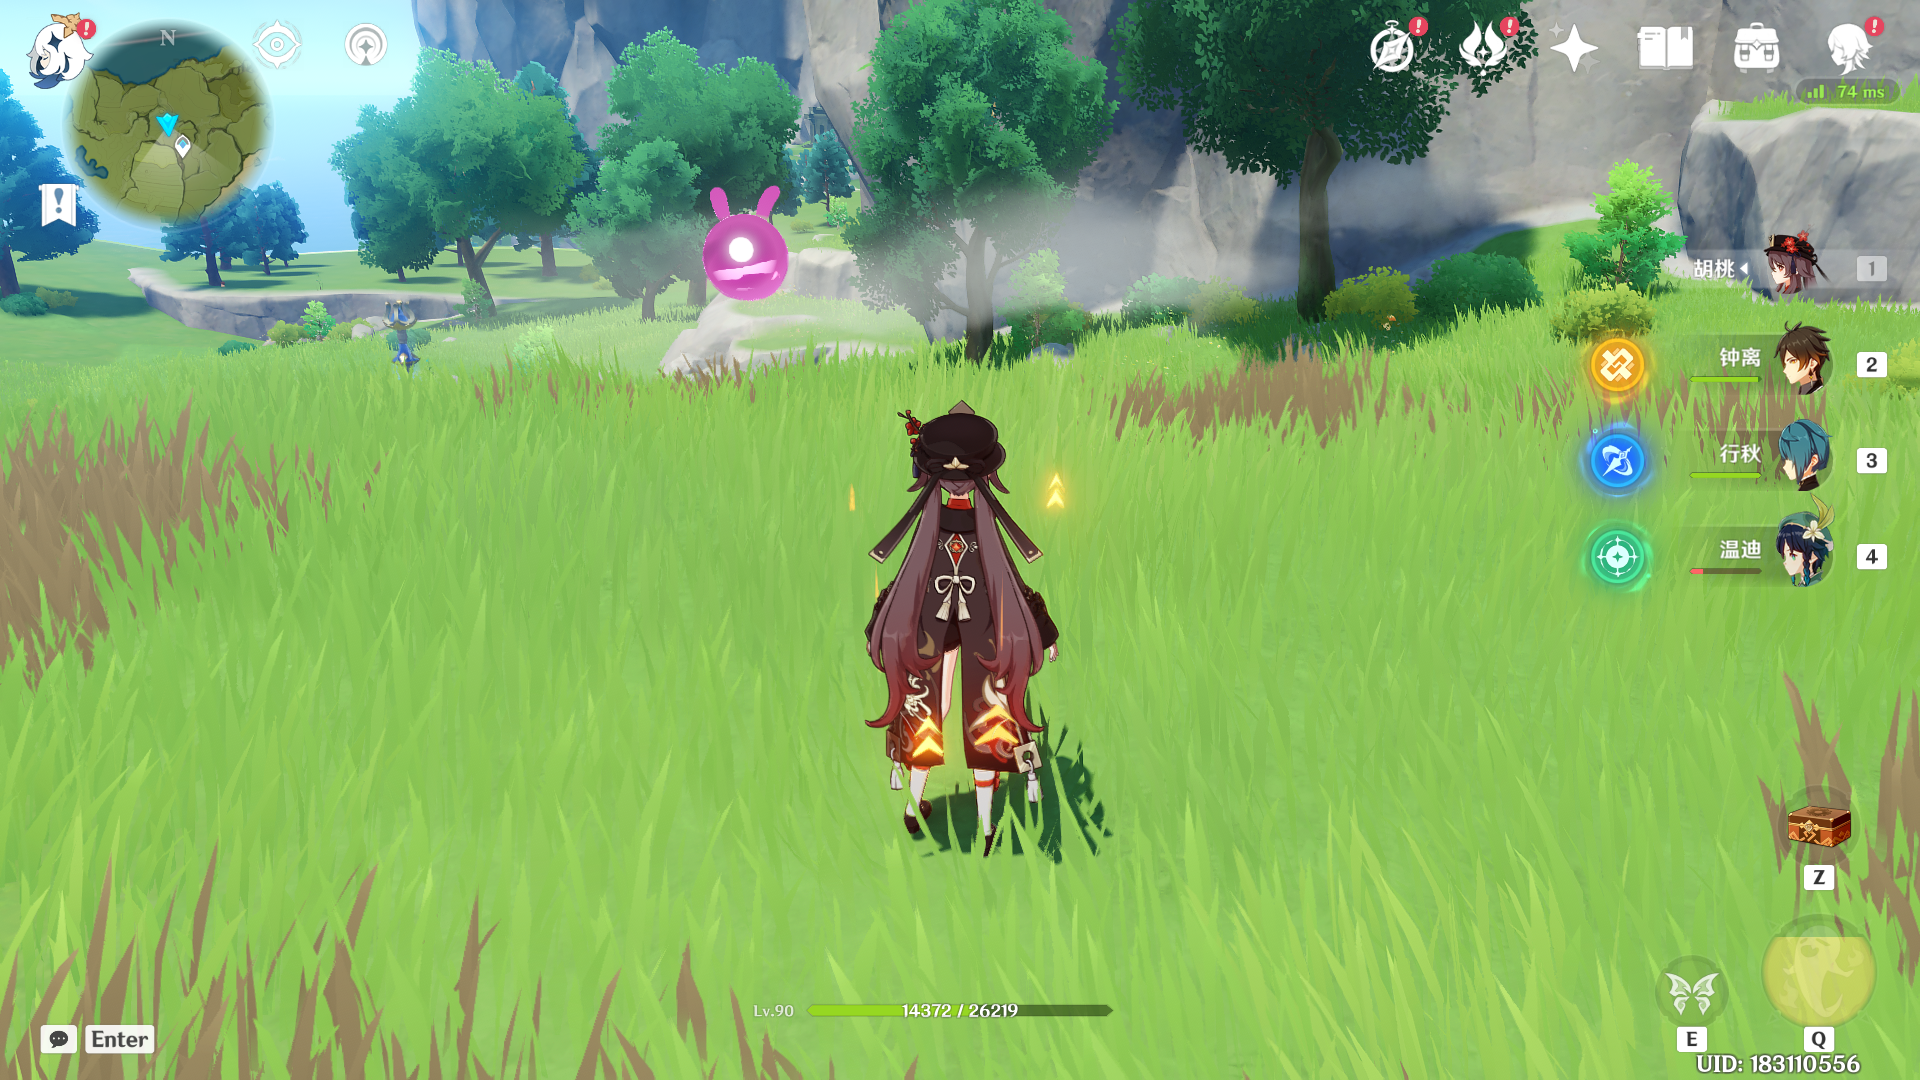character: (804, 398, 1118, 844)
